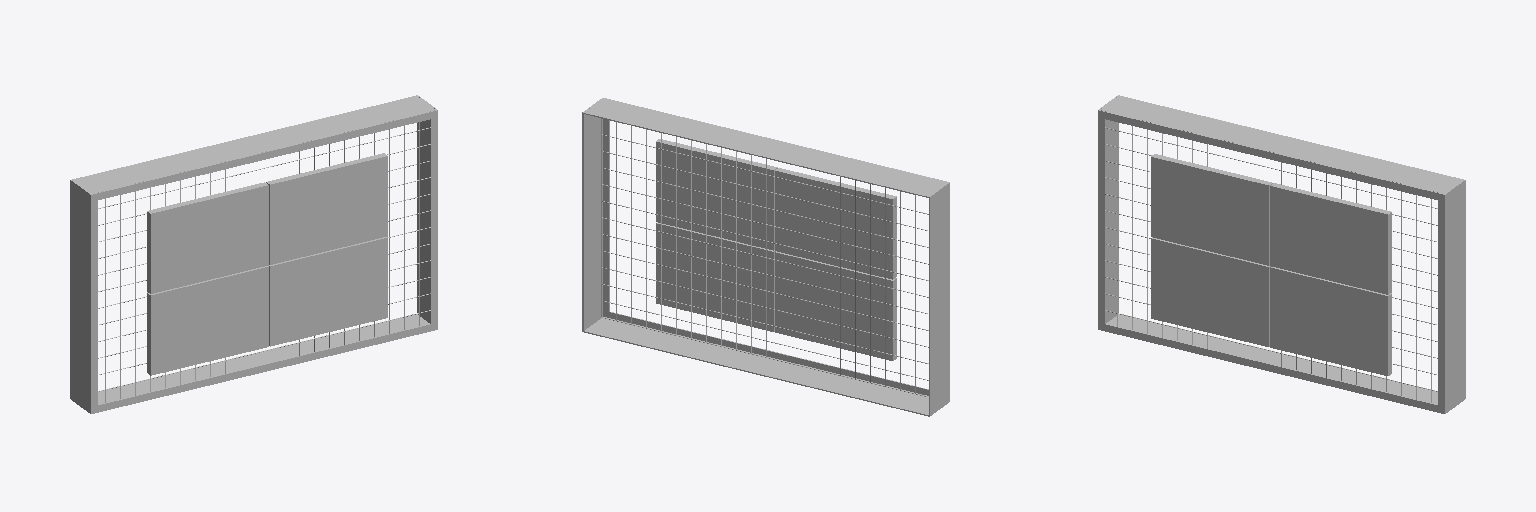
File: finn.obj
3 renders of one model, left to right at view 1: azimuth 30°, elevation 25°; view 2: azimuth 150°, elevation 25°; view 3: azimuth 330°, elevation 25°, orthographic.
Parts seen in each view (by area): view 1: Würfel_0_1, Würfel_1_1, Würfel_0, Würfel_1, Würfel_0_5, Würfel_0_4, Würfel_1_5, Würfel_1_2, Würfel_0_2, Würfel_1_4, Würfel_0_3, Würfel_1_3; view 2: Würfel_0_1, Würfel_0, Würfel_1_1, Würfel_1, Würfel_0_5, Würfel_1_5, Würfel_0_4, Würfel_1_4, Würfel_1_2, Würfel_1_3; view 3: Würfel_1_1, Würfel_0_1, Würfel_1, Würfel_0, Würfel_0_5, Würfel_1_4, Würfel_1_5, Würfel_1_2, Würfel_0_2, Würfel_0_4, Würfel_1_3, Würfel_0_3.
Boxes of the visible parts, <box> form: Würfel_0_1: <box>147,182,268,293</box>; Würfel_1_1: <box>266,153,387,264</box>; Würfel_0: <box>147,266,268,375</box>; Würfel_1: <box>269,237,387,346</box>; Würfel_0_5: <box>72,95,435,193</box>; Würfel_0_4: <box>70,180,90,412</box>; Würfel_1_5: <box>98,314,429,404</box>; Würfel_1_2: <box>98,324,430,412</box>; Würfel_0_2: <box>98,112,430,199</box>; Würfel_1_4: <box>417,95,436,323</box>; Würfel_0_3: <box>90,193,97,413</box>; Würfel_1_3: <box>431,110,437,330</box>; Würfel_0_1: <box>775,168,896,279</box>; Würfel_0: <box>775,251,896,360</box>; Würfel_1_1: <box>656,139,777,250</box>; Würfel_1: <box>656,222,775,331</box>; Würfel_0_5: <box>584,98,947,197</box>; Würfel_1_5: <box>584,317,928,416</box>; Würfel_0_4: <box>929,182,949,416</box>; Würfel_1_4: <box>582,98,602,331</box>; Würfel_1_2: <box>609,312,928,395</box>; Würfel_1_3: <box>603,98,609,317</box>; Würfel_1_1: <box>1270,183,1391,294</box>; Würfel_0_1: <box>1151,154,1272,265</box>; Würfel_1: <box>1270,267,1391,375</box>; Würfel_0: <box>1151,237,1270,346</box>; Würfel_0_5: <box>1100,95,1463,193</box>; Würfel_1_4: <box>1445,180,1465,412</box>; Würfel_1_5: <box>1106,314,1437,404</box>; Würfel_1_2: <box>1105,324,1437,412</box>; Würfel_0_2: <box>1105,112,1437,199</box>; Würfel_0_4: <box>1099,95,1118,323</box>; Würfel_1_3: <box>1438,193,1445,413</box>; Würfel_0_3: <box>1098,110,1104,330</box>.
Bounding box in the file's own units: 152 × 91.54 × 17.93.